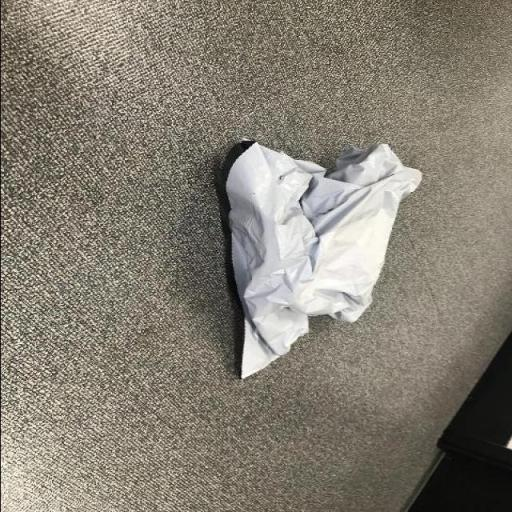plastic-bag: (219, 137, 426, 383)
